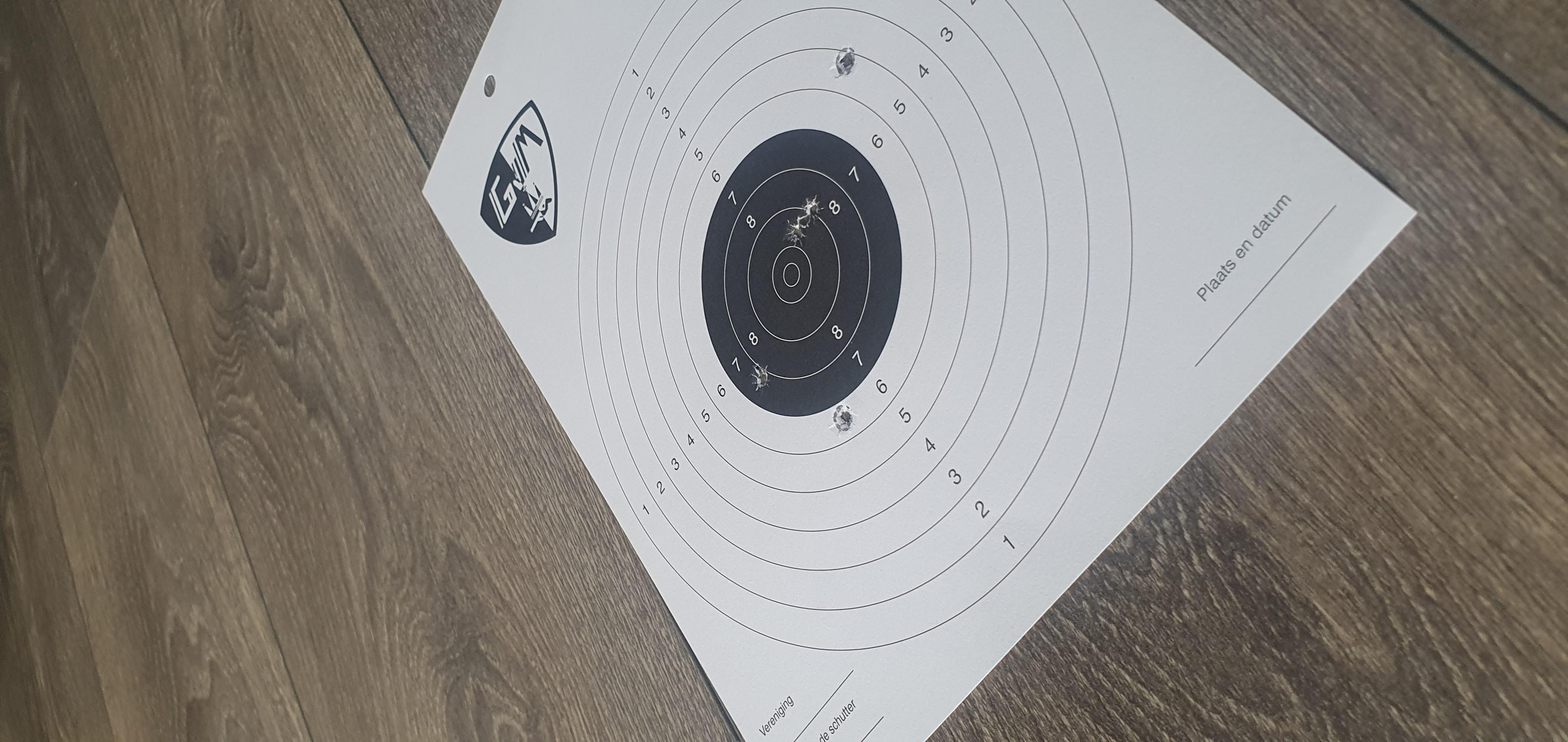hole: (1399, 393, 1475, 407), (657, 393, 711, 406), (1051, 370, 1104, 383), (1097, 379, 1155, 390), (737, 356, 799, 365)
